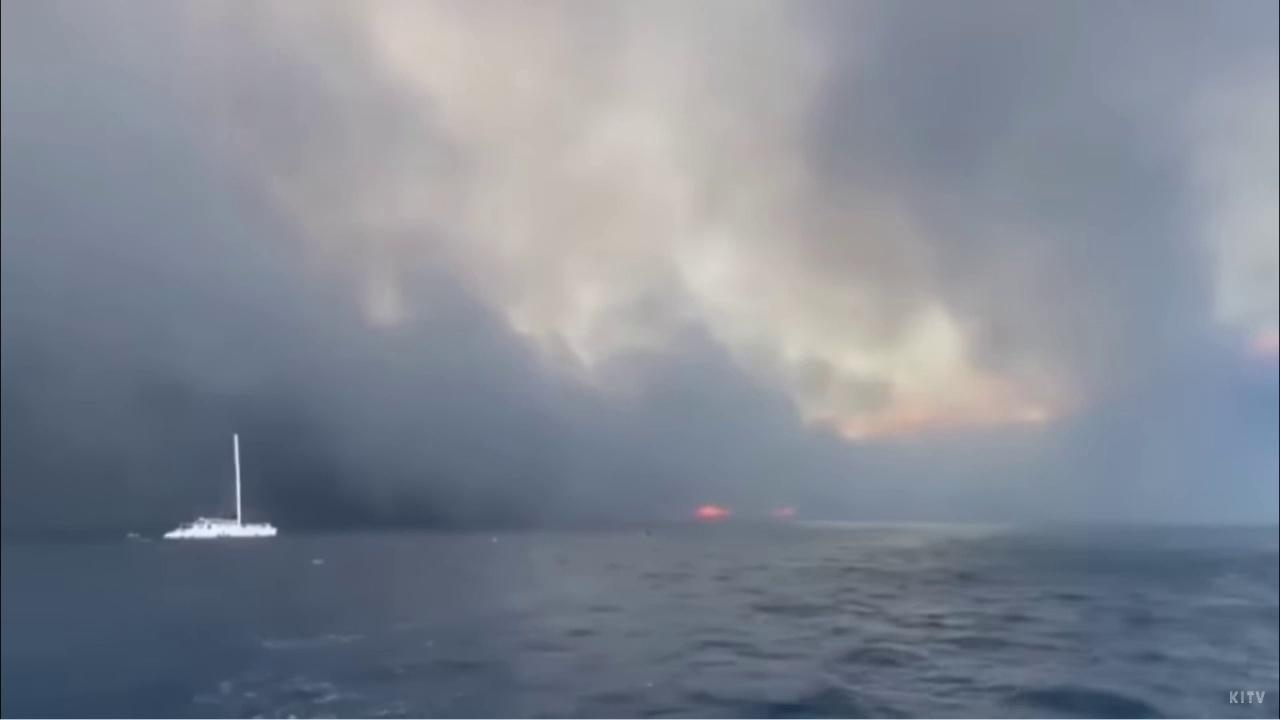fire: (691, 505, 729, 520), (775, 508, 796, 518)
smoke: (0, 0, 1280, 519)
